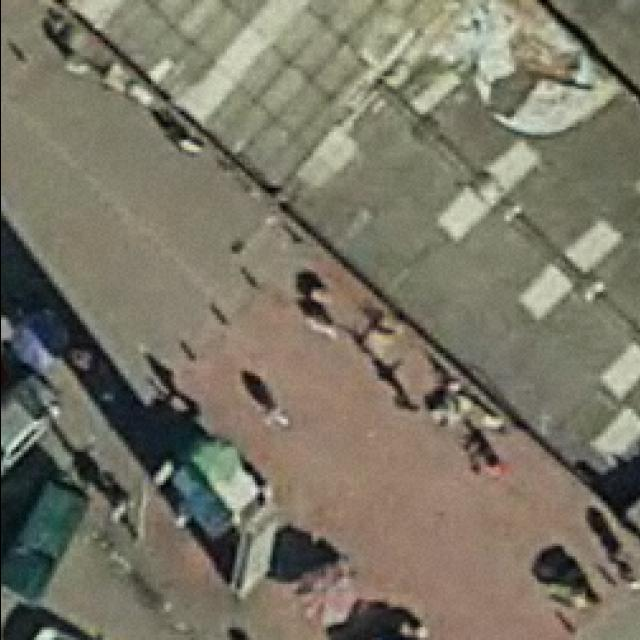vendedor_ambulante: (284, 558, 360, 632), (7, 304, 71, 375)
